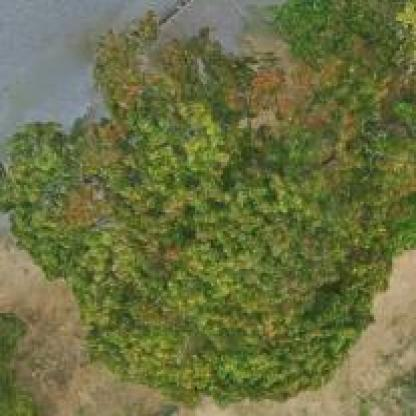Deciduous Tree: (12, 29, 388, 384)
